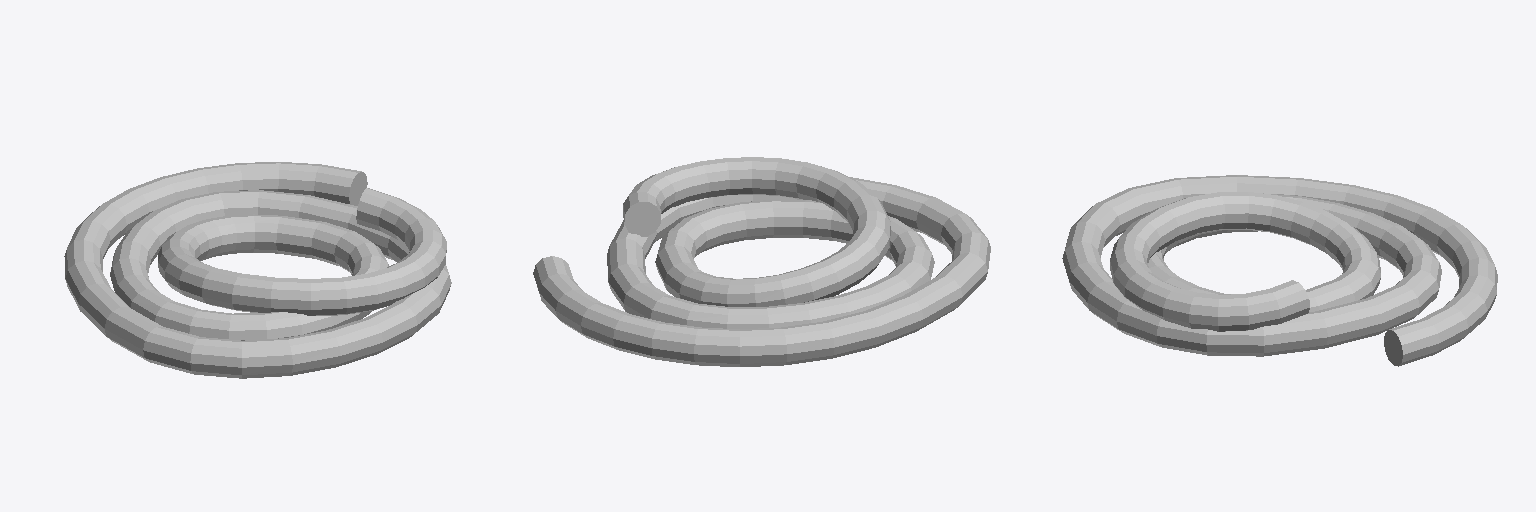
File: Rope_1.obj
The picture shows the model from 3 angles: view 1: azimuth 30°, elevation 25°; view 2: azimuth 150°, elevation 25°; view 3: azimuth 270°, elevation 25°; orthographic projection.
Parts seen in each view (by area): view 1: Rope_1_BezierCurve.004; view 2: Rope_1_BezierCurve.004; view 3: Rope_1_BezierCurve.004.
Part boxes in pixels (x1,y1,x2,y2): Rope_1_BezierCurve.004: (64,162,451,378); Rope_1_BezierCurve.004: (533,157,990,366); Rope_1_BezierCurve.004: (1062,175,1497,366).
Bounding box in the file's own units: 0.5574 × 0.0979 × 0.6063.